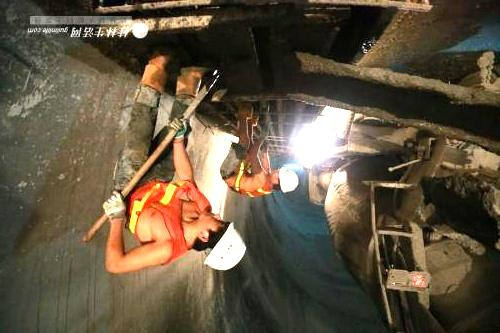helmet: (191, 210, 246, 271), (268, 166, 299, 195)
